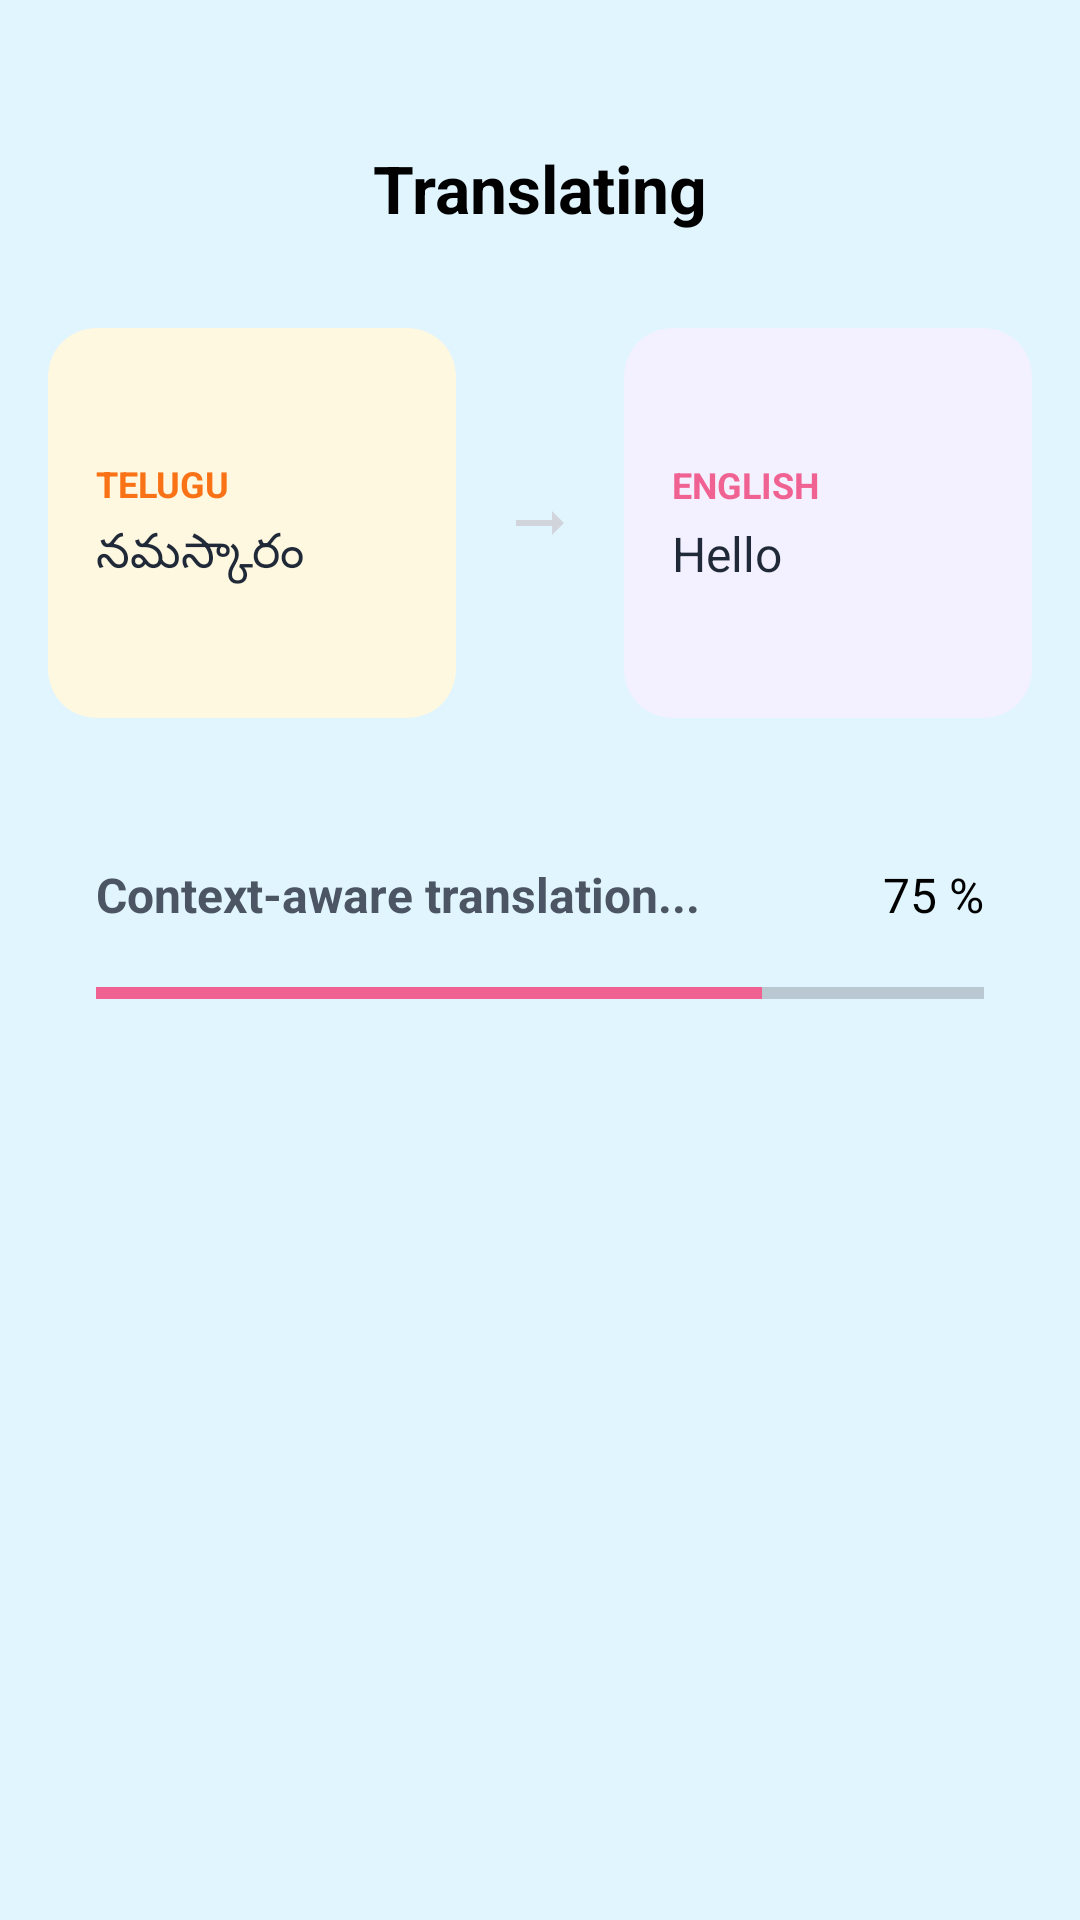

Icons on this 1080px x 1920px Android screen, each with the point to tap as point (x, y):
arrow right: point (539, 523)
